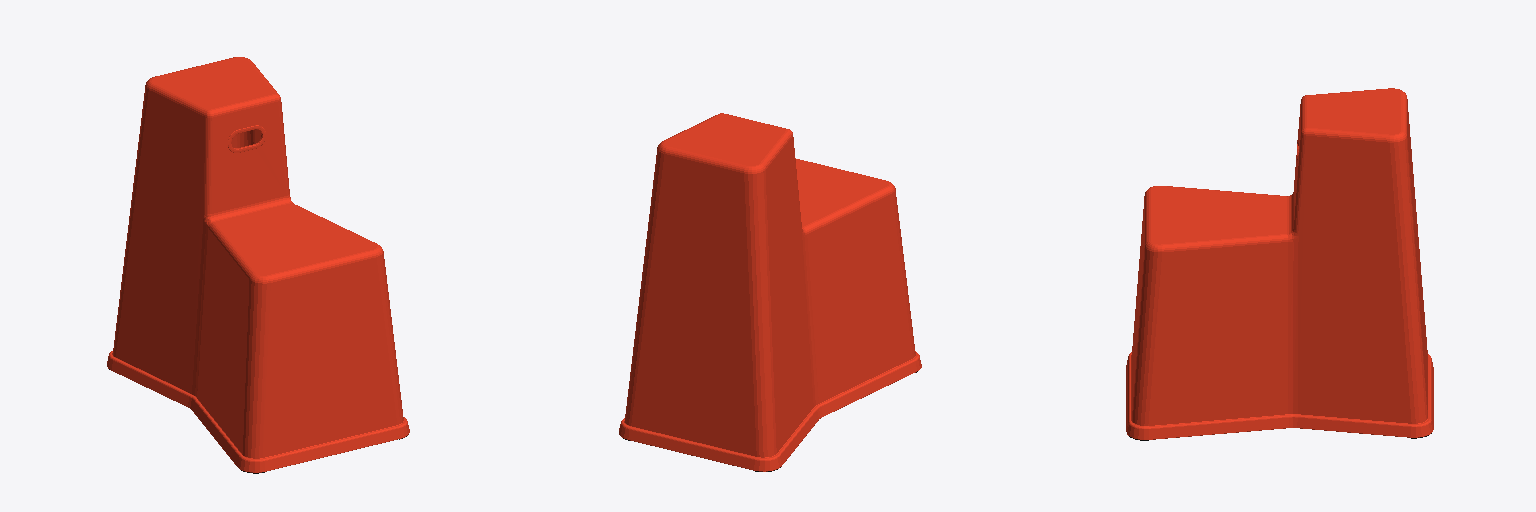
Rendered from StoolTool.obj.
The picture shows the model from 3 angles: view 1: azimuth 30°, elevation 25°; view 2: azimuth 150°, elevation 25°; view 3: azimuth 270°, elevation 25°; orthographic projection.
Visible parts, largest first — view 1: mesh_2; view 2: mesh_2; view 3: mesh_2.
Part boxes in pixels (left/top/right/bottom): mesh_2: left=107, top=57, right=409, bottom=472; mesh_2: left=619, top=113, right=921, bottom=471; mesh_2: left=1126, top=88, right=1433, bottom=439.
Size of the model in its own units: 0.4586 by 0.7525 by 0.7266.